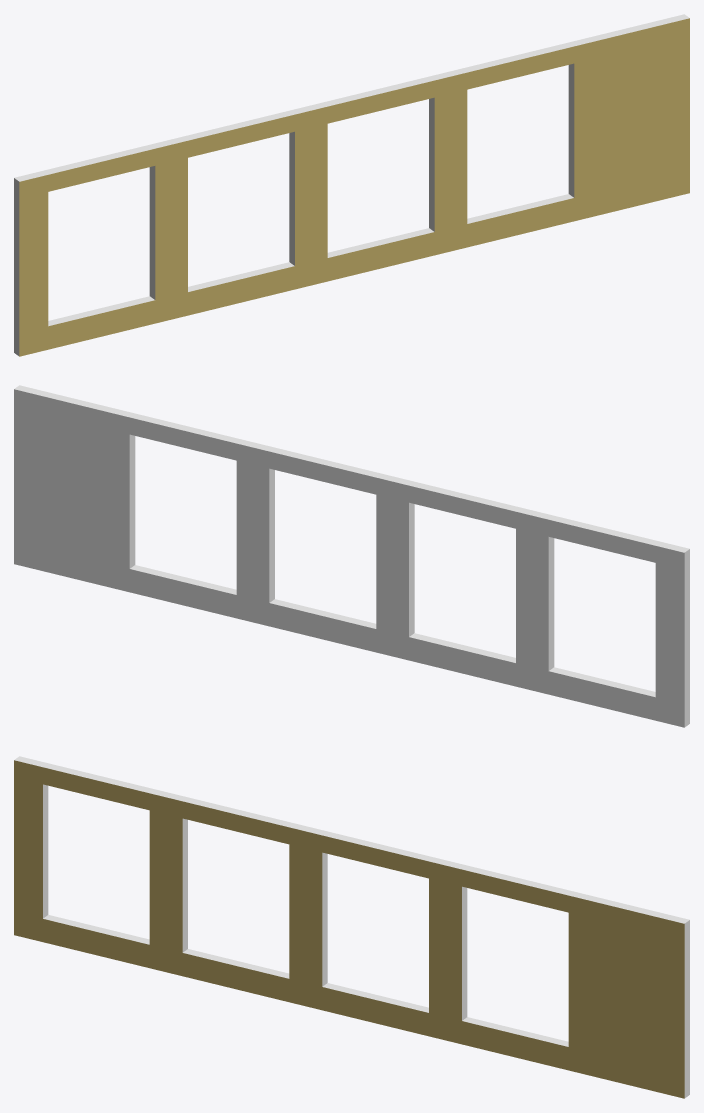
The model's file is Wall 5.FBX.
The picture shows the model from 3 angles, top to bottom: view 1: azimuth 30°, elevation 25°; view 2: azimuth 150°, elevation 25°; view 3: azimuth 330°, elevation 25°; orthographic projection.
Parts seen in each view (by area): view 1: Wall 5; view 2: Wall 5; view 3: Wall 5.
Part boxes in pixels (<box>): Wall 5: <box>14,14,689,356</box>; Wall 5: <box>14,385,689,727</box>; Wall 5: <box>14,756,689,1098</box>.
Bounding box in the file's own units: 1093 × 272 × 15.43.
Materials: 2 (2 with a texture image).
